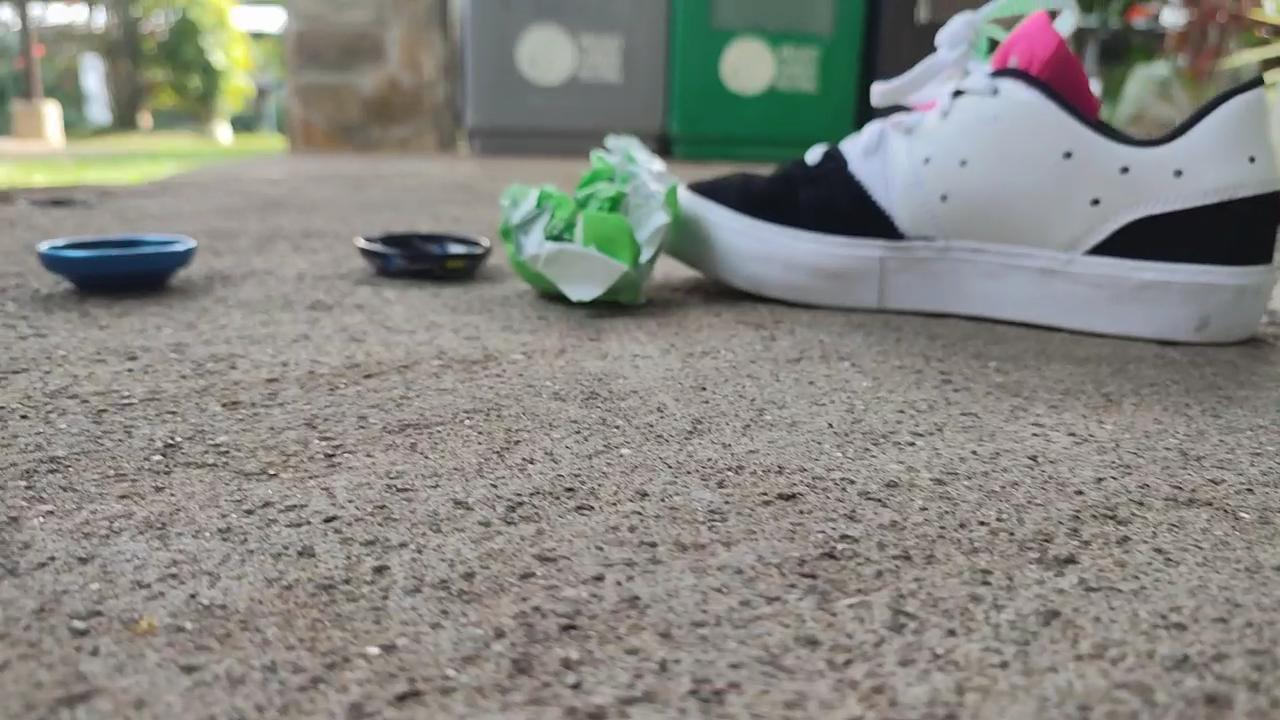Paper: (481, 100, 689, 319)
